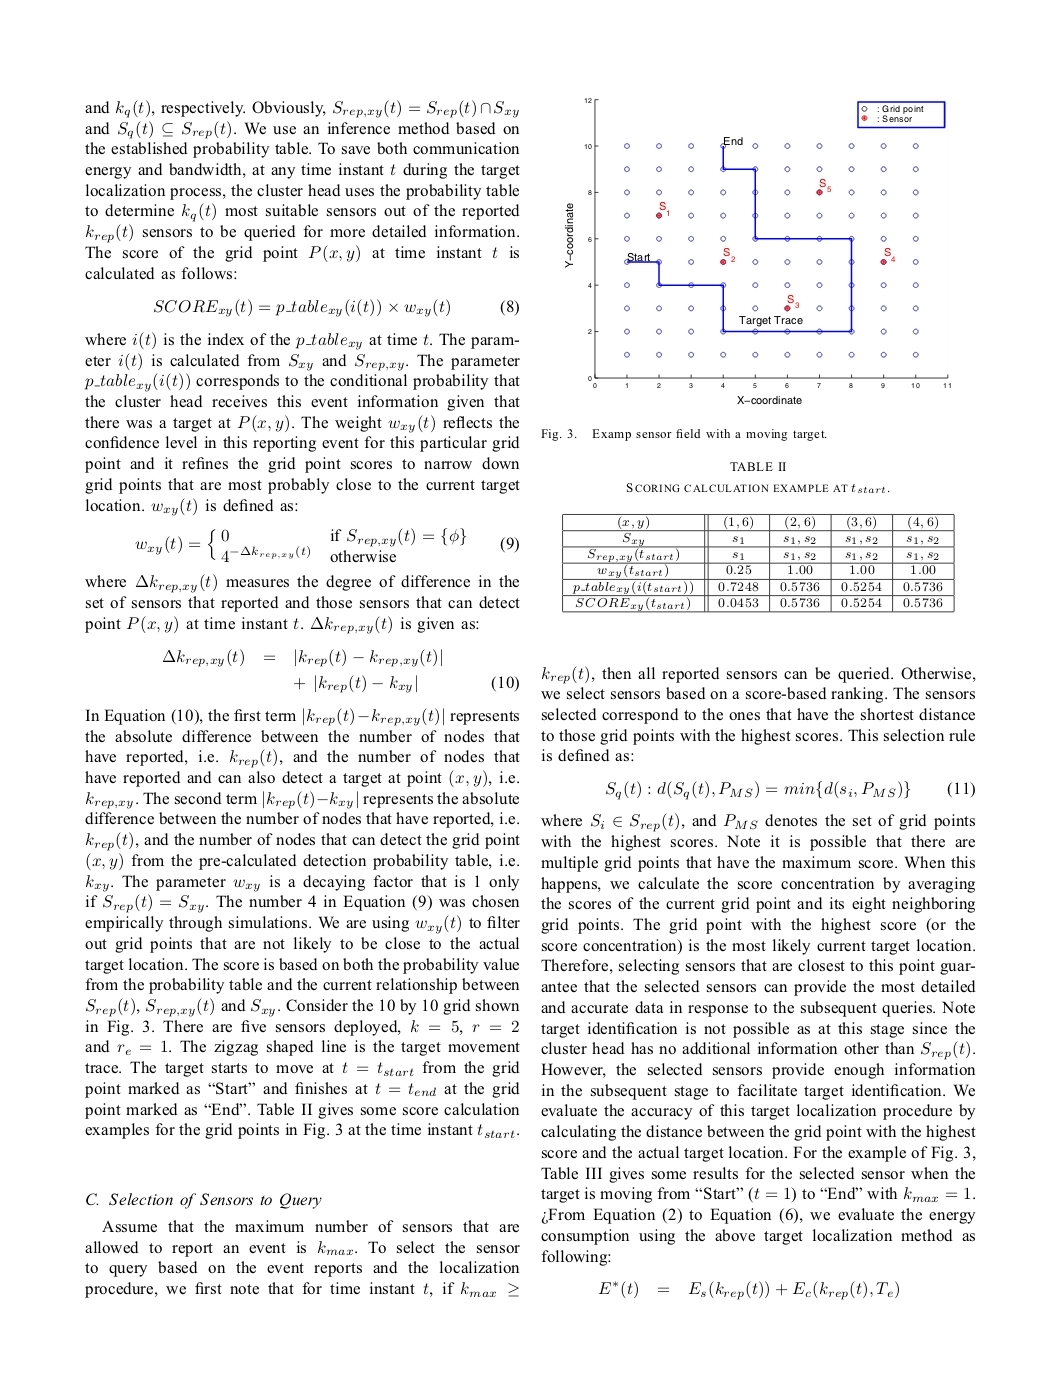Table: (562, 514, 954, 612)
figure: (565, 98, 950, 405)
formula: (135, 527, 518, 563), (606, 780, 974, 800), (154, 298, 518, 317), (598, 1281, 898, 1299), (163, 647, 441, 668), (294, 674, 518, 693)
